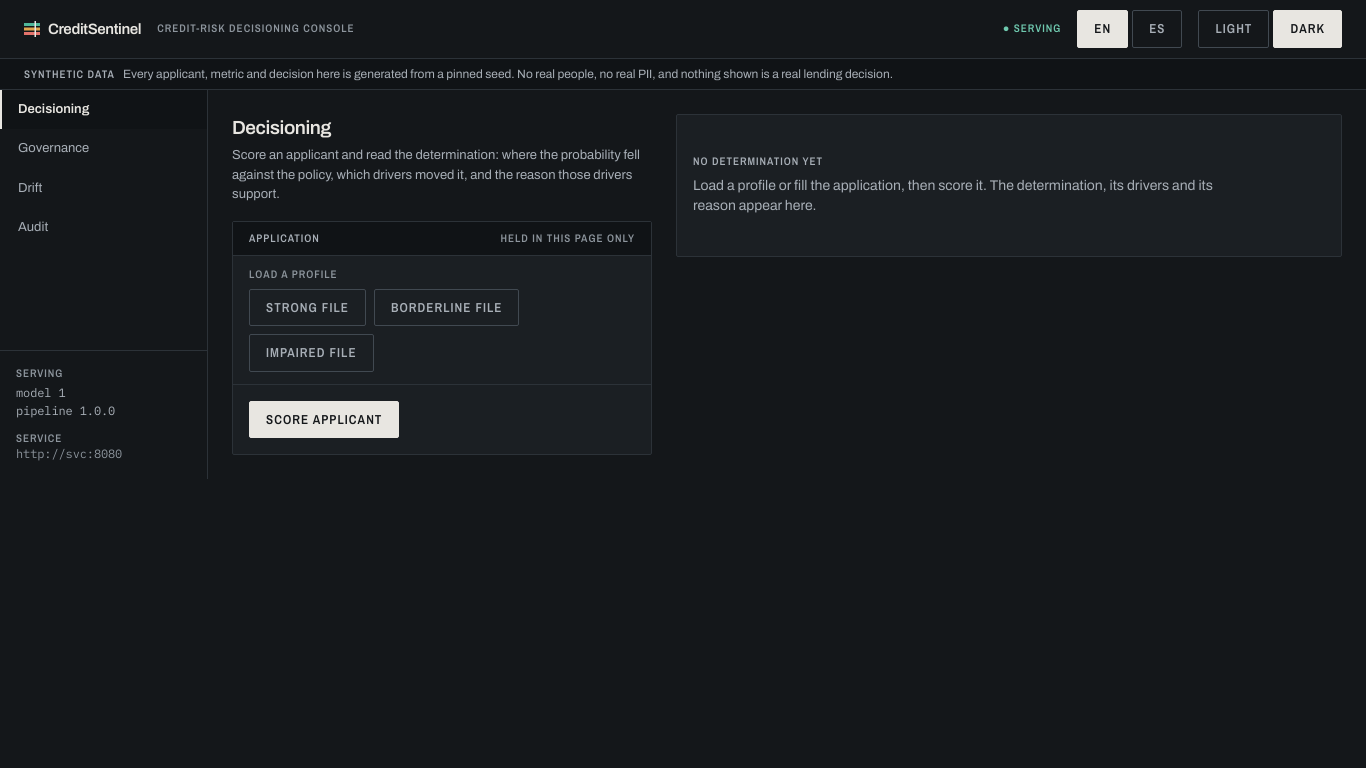
Scenario: decisioning view › renders every field of a scored response (SC-002)
Click the button "Score applicant".
click(324, 420)  # box [249, 401, 399, 438]
(page scrolled)
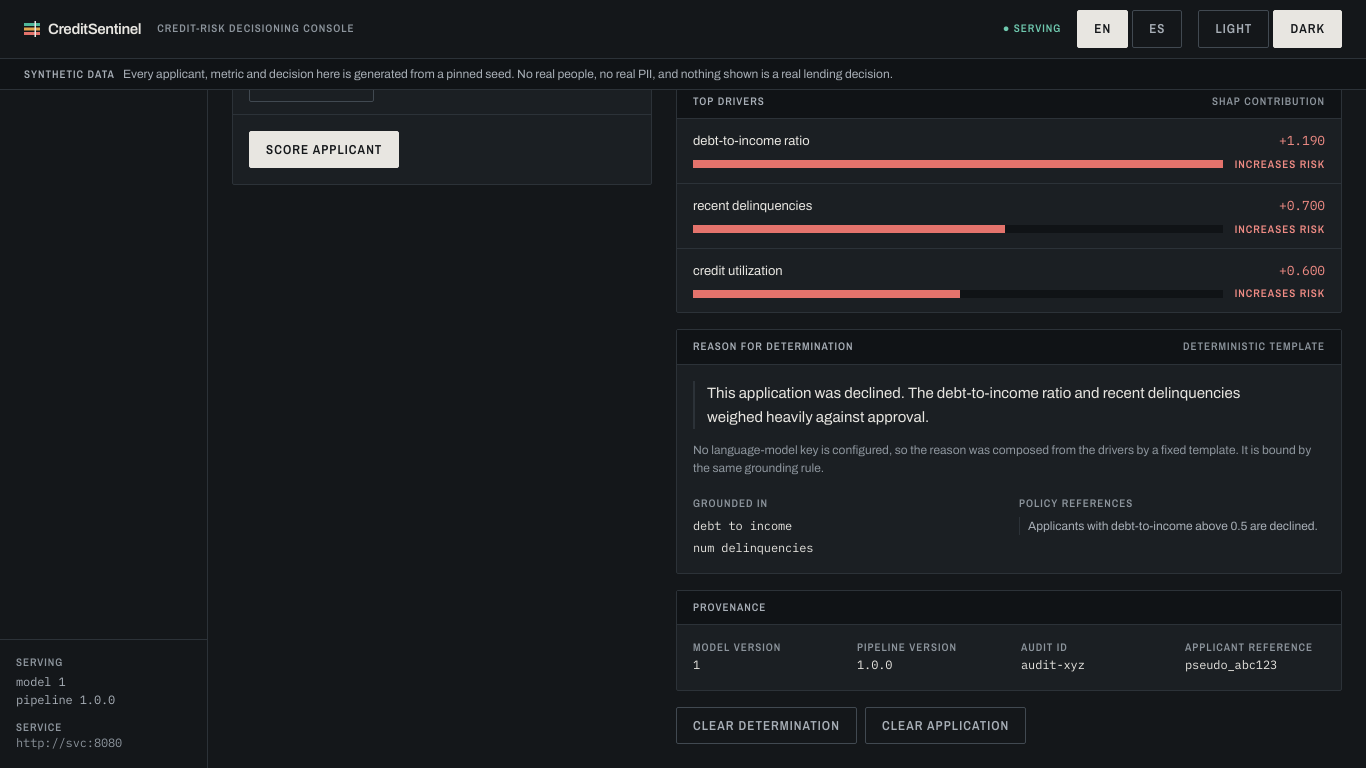
Expected: the text "audit-xyz" is shown, [1021, 657, 1085, 672]
Expected: the text "weighed heavily against approval" is shown, [707, 385, 1240, 425]
Expected: the text "Deterministic template" is shown, [1183, 340, 1325, 354]
